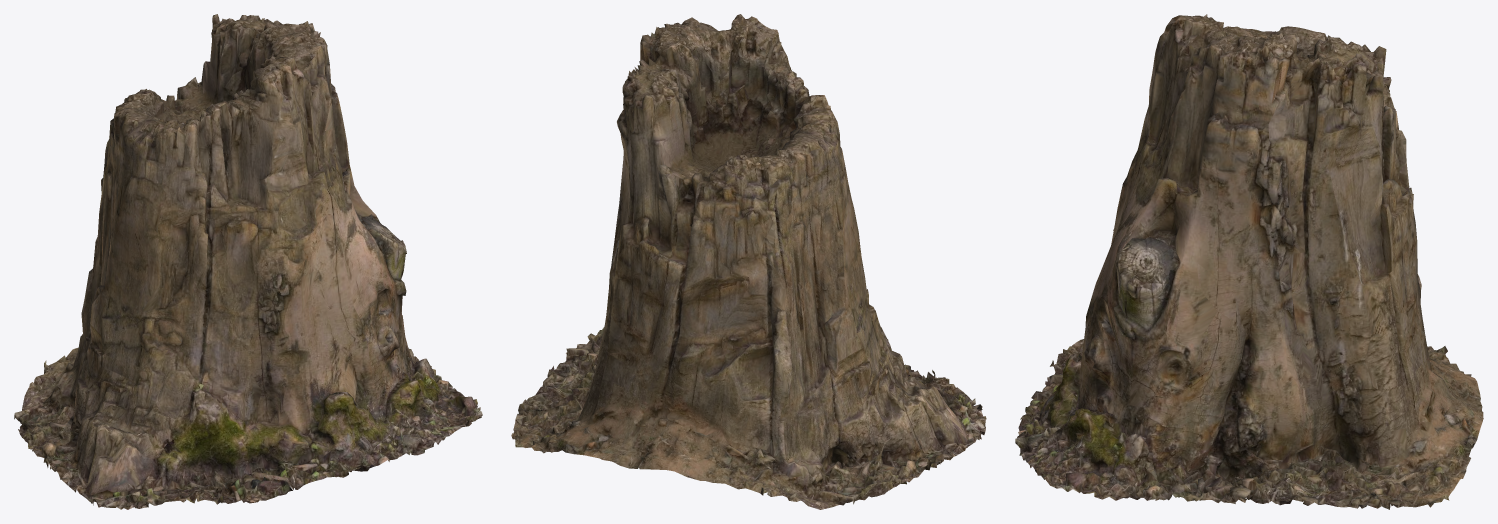
The model's file is tocon.glb.
3 views of the same model, side by side, from view 1: azimuth 30°, elevation 25°; view 2: azimuth 150°, elevation 25°; view 3: azimuth 270°, elevation 25° (orthographic). The views are drawn at different scales.
Visible parts, largest first — view 1: TreeStump024_LOD1; view 2: TreeStump024_LOD1; view 3: TreeStump024_LOD1.
Boxes of the visible parts, box(x1,y1,x2,y2) form: TreeStump024_LOD1: box(14, 14, 482, 509); TreeStump024_LOD1: box(511, 14, 986, 509); TreeStump024_LOD1: box(1015, 14, 1483, 509).
Bounding box in the file's own units: 0.5517 × 0.5456 × 0.5328.
Materials: 1 (1 with a texture image).
